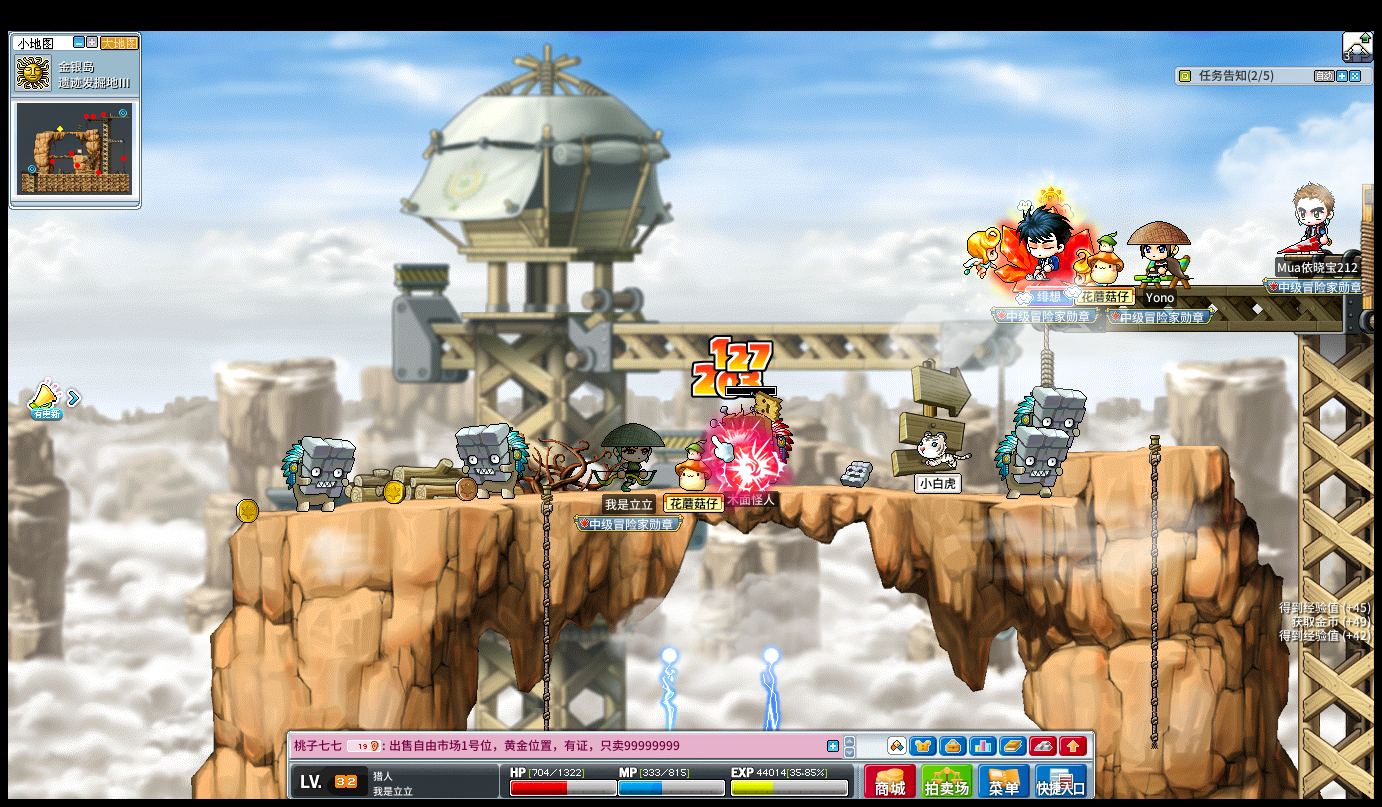floor: (245, 479, 1130, 508), (1071, 442, 1225, 457)
monster: (996, 399, 1076, 501), (709, 392, 794, 487), (280, 434, 355, 513), (454, 423, 529, 501), (993, 425, 1068, 500), (1016, 385, 1086, 435)
rope: (1145, 429, 1161, 753), (538, 480, 551, 749), (539, 481, 552, 681)
